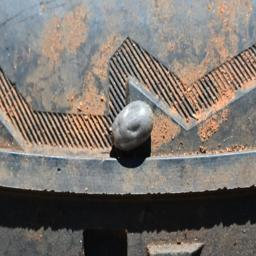Rhipicephalus sanguineus: (109, 100, 154, 154)
